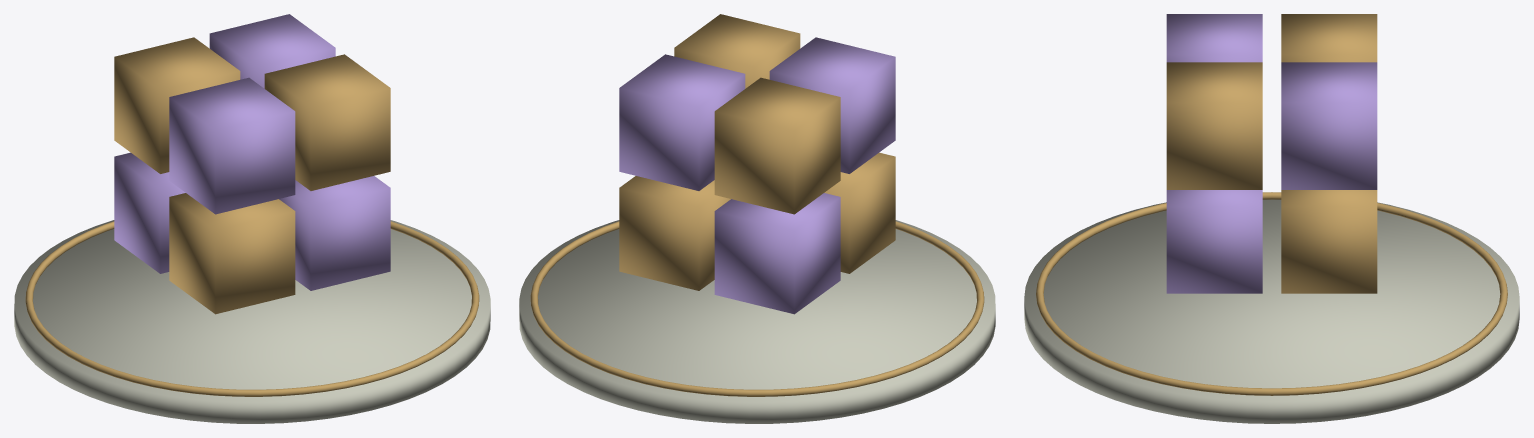
File: logic.glb
The picture shows the model from 3 angles, left to right: view 1: azimuth 30°, elevation 25°; view 2: azimuth 150°, elevation 25°; view 3: azimuth 270°, elevation 25°; orthographic projection. The views are drawn at different scales.
Visible parts, largest first — view 1: Limestone plinth, Puzzle piece.001, Puzzle piece, Puzzle piece.005, Puzzle piece.004, Puzzle piece.003, Brass inlay, Puzzle piece.002, Puzzle piece.007; view 2: Limestone plinth, Puzzle piece.003, Puzzle piece.002, Puzzle piece.007, Puzzle piece.006, Puzzle piece.001, Brass inlay, Puzzle piece, Puzzle piece.005; view 3: Limestone plinth, Puzzle piece.005, Puzzle piece.007, Puzzle piece.004, Puzzle piece.006, Brass inlay, Puzzle piece.001, Puzzle piece.003.
Part boxes in pixels (bbox=[...]): Limestone plinth: bbox=[14, 220, 490, 423]; Puzzle piece.001: bbox=[169, 77, 295, 214]; Puzzle piece: bbox=[169, 193, 295, 314]; Puzzle piece.005: bbox=[264, 54, 390, 190]; Puzzle piece.004: bbox=[279, 176, 390, 290]; Puzzle piece.003: bbox=[114, 37, 240, 173]; Brass inlay: bbox=[25, 221, 479, 396]; Puzzle piece.002: bbox=[114, 152, 185, 273]; Puzzle piece.007: bbox=[209, 14, 335, 88]; Limestone plinth: bbox=[519, 220, 995, 423]; Puzzle piece.003: bbox=[714, 77, 840, 214]; Puzzle piece.002: bbox=[714, 193, 840, 314]; Puzzle piece.007: bbox=[619, 54, 745, 190]; Puzzle piece.006: bbox=[619, 176, 730, 290]; Puzzle piece.001: bbox=[769, 37, 895, 173]; Brass inlay: bbox=[530, 221, 984, 396]; Puzzle piece: bbox=[824, 152, 895, 273]; Puzzle piece.005: bbox=[674, 14, 800, 88]; Limestone plinth: bbox=[1024, 199, 1519, 423]; Puzzle piece.005: bbox=[1166, 62, 1262, 189]; Puzzle piece.007: bbox=[1281, 62, 1377, 189]; Puzzle piece.004: bbox=[1166, 190, 1262, 293]; Puzzle piece.006: bbox=[1281, 190, 1377, 293]; Brass inlay: bbox=[1036, 192, 1507, 395]; Puzzle piece.001: bbox=[1166, 14, 1262, 62]; Puzzle piece.003: bbox=[1281, 14, 1377, 62].
Size of the model in its own units: 3.2 by 1.86 by 3.2.
